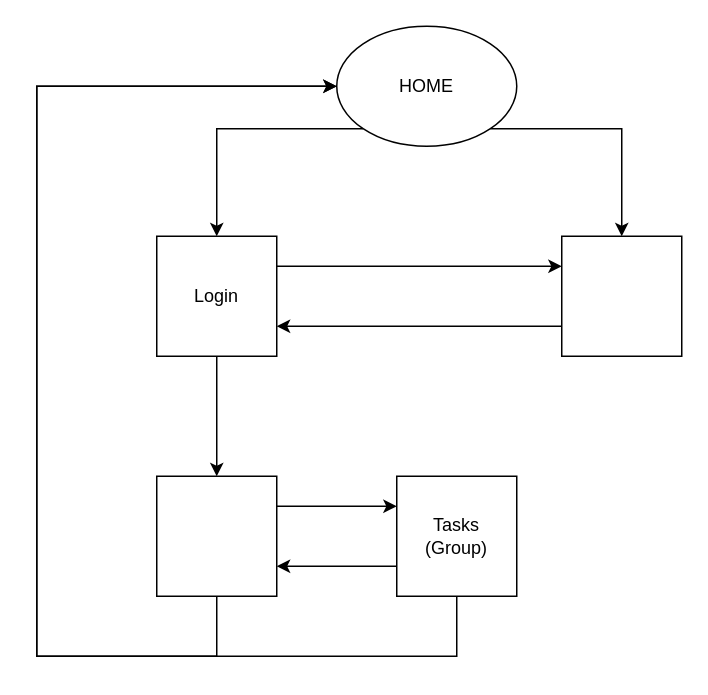
Image size: 708x695. Some labels were removed from this diagram. Here are the shapes that lost their labels. From the top down, the centre of each, then its label:
pixel 621 295: Register
pixel 216 535: Tasks (Individual)
